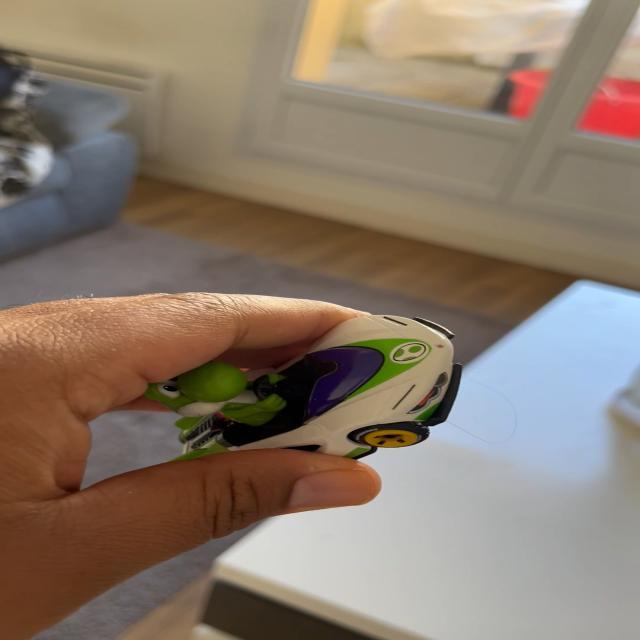yoshi: (135, 320, 462, 473)
